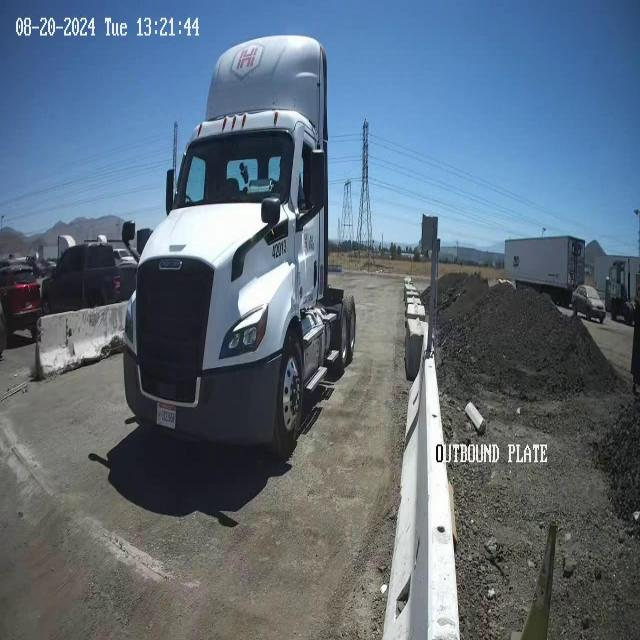TRUCK_OUT: (122, 33, 356, 459)
